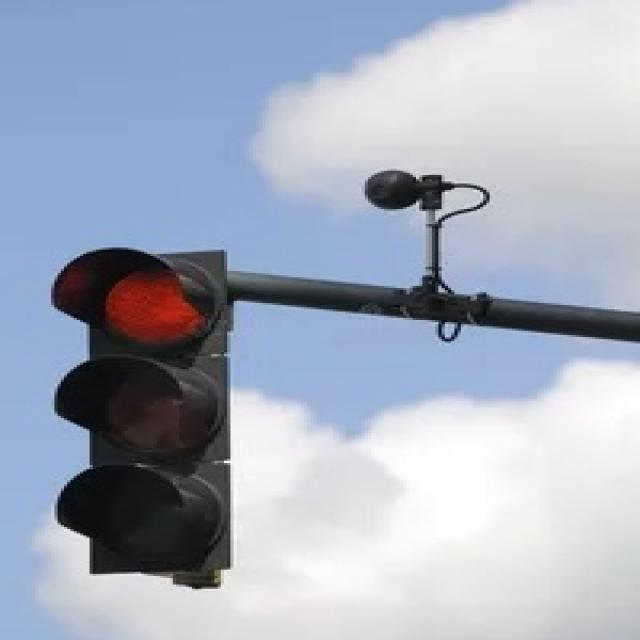kirmizi: (53, 245, 236, 590)
